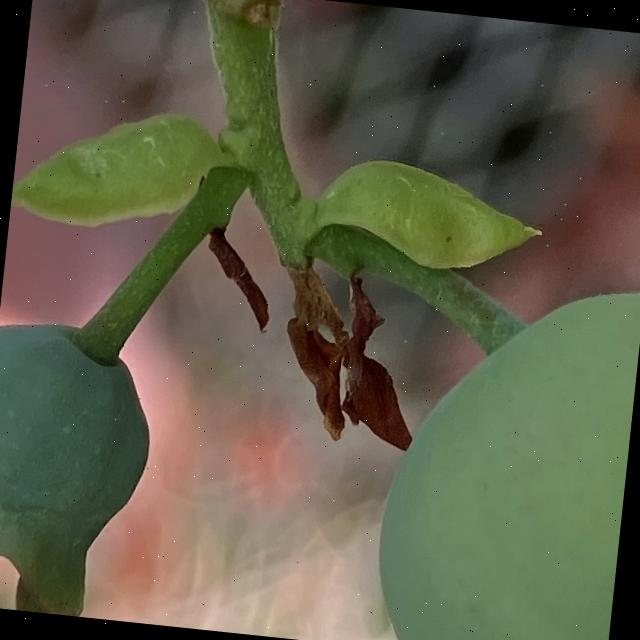Blueberries: (361, 257, 640, 640)
